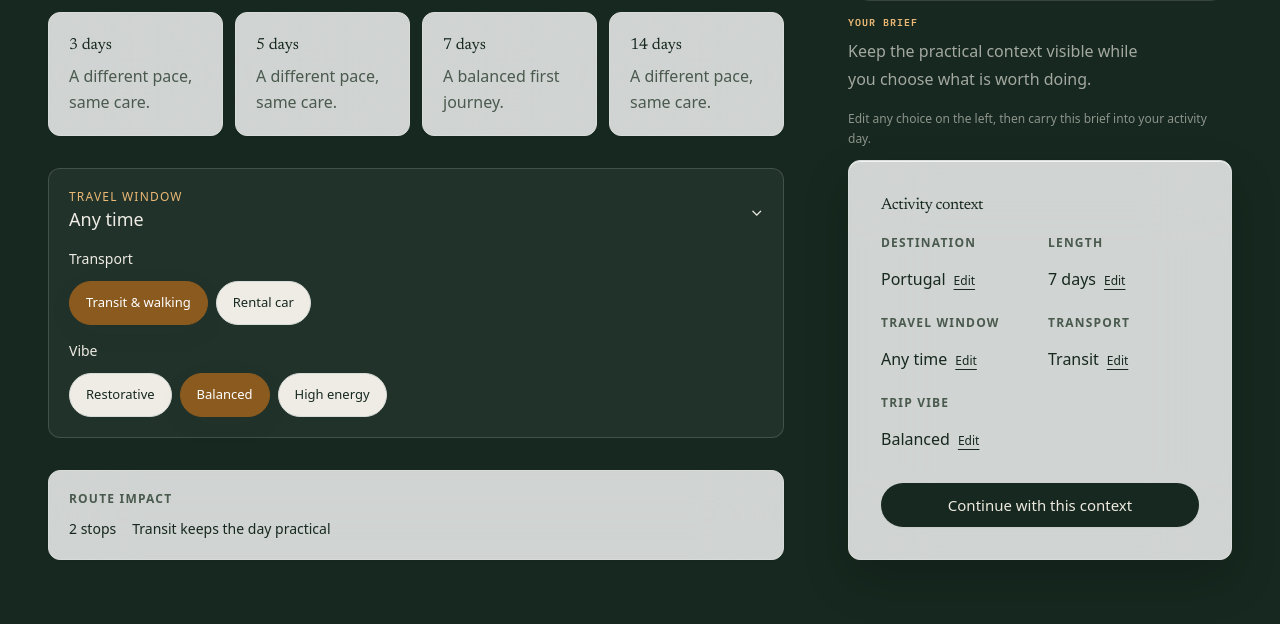
Scenario: PlannerSingleScreen › offers a retry when the navigation cannot be accepted
(page scrolled)
Click the button "Continue with this context" at (1040, 505), box x1=881 y1=483 x2=1199 y2=527
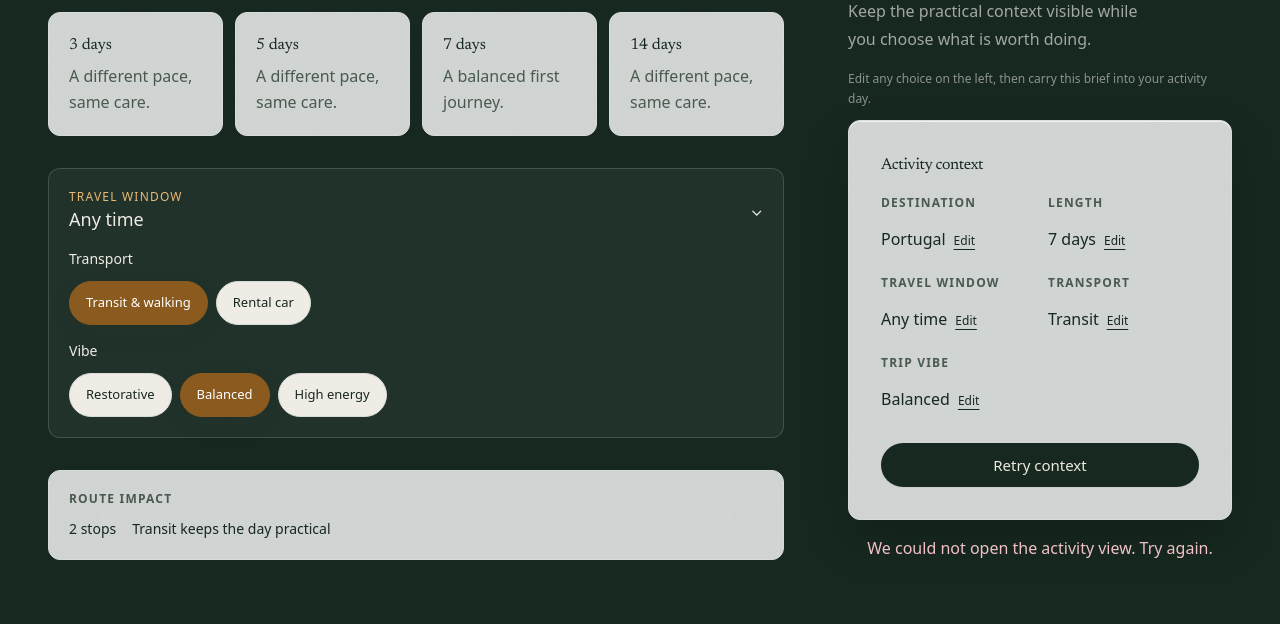
Expected: the button "Retry context" is enabled, x1=881 y1=443 x2=1199 y2=487
Expected: the message shows "We could not open the activity view.", x1=867 y1=537 x2=1213 y2=559
